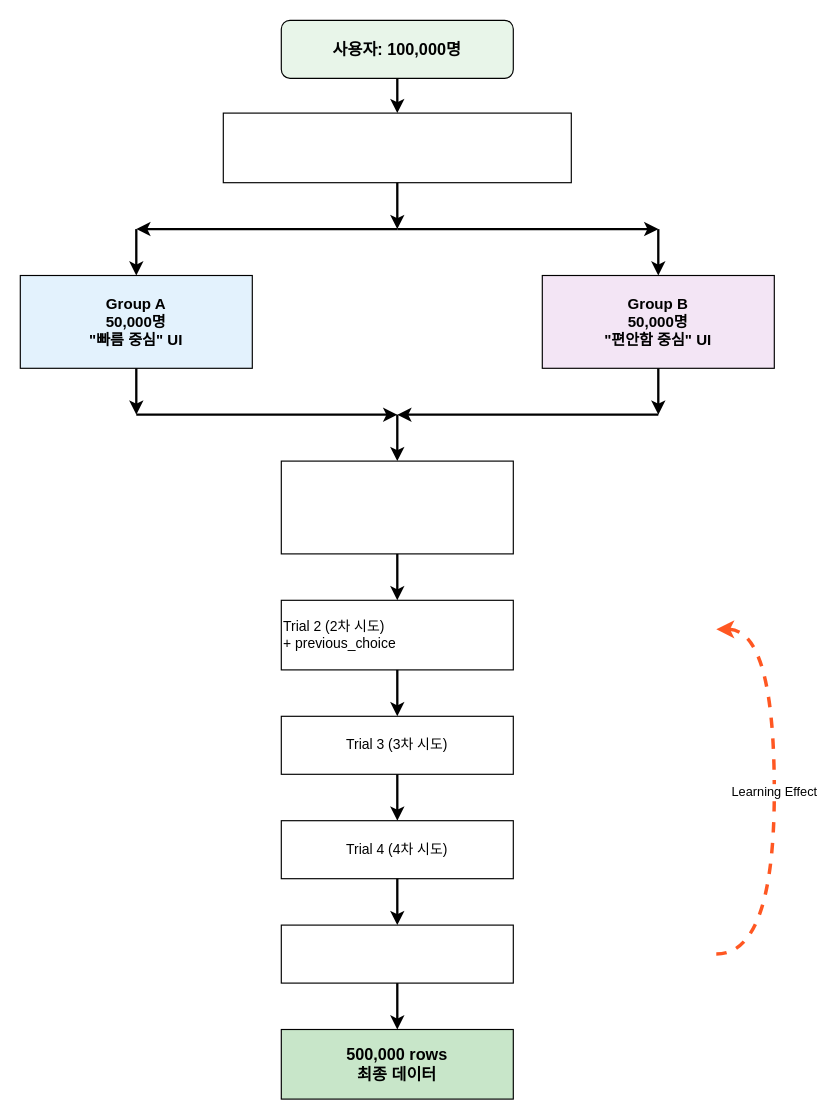
Image size: 838x1119. Some labels were removed from this diagram. The centre of each missing label's shape, as x and y in pixels:
"Trial 1 (1차 시도) - time_pressure - congestion_fast → 경로 선택" goes at (x=396, y=507).
"Trial 5 (5차 시도)" goes at (x=396, y=953).
"사용자 무작위 배정 (Bernoulli 0.5)" goes at (x=396, y=147).
